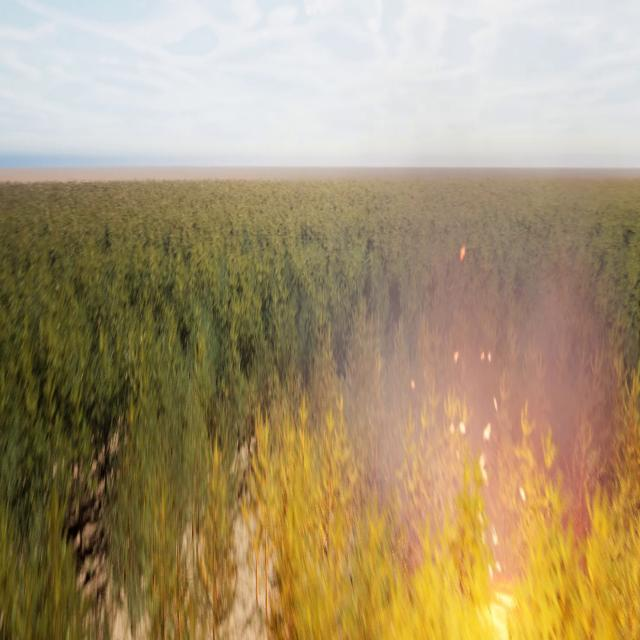fire: (403, 425, 640, 639)
smoke: (327, 181, 639, 584)
